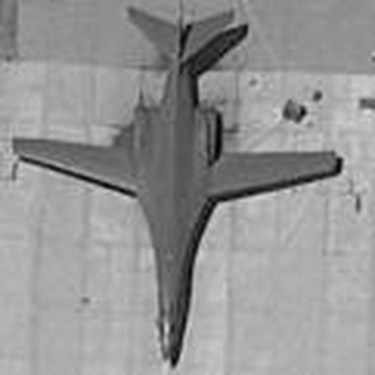airplane: (6, 2, 353, 372)
